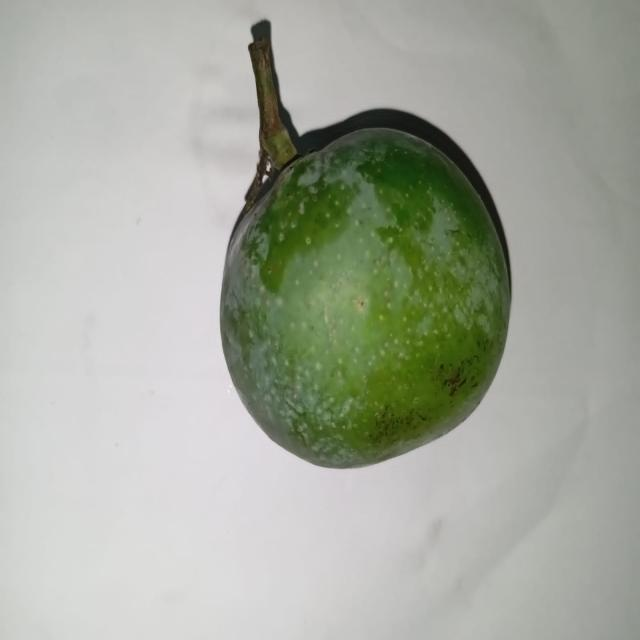rotten_mango: (222, 130, 504, 464)
